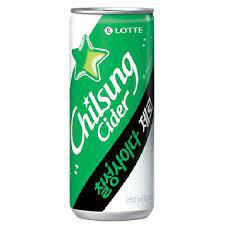chilsungcider_zero: (67, 4, 157, 219)
